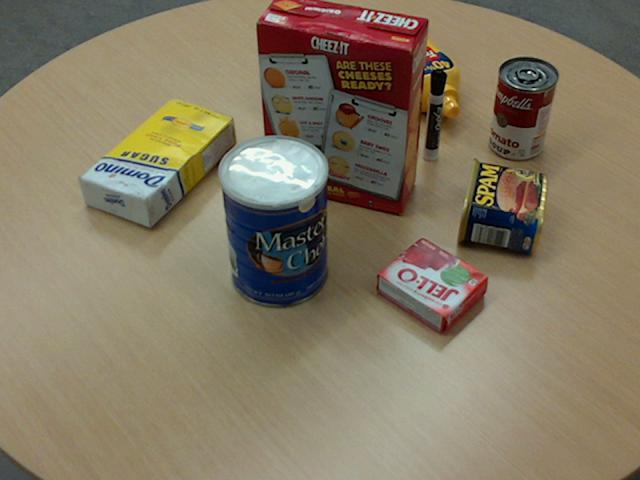cracker_box: (254, 0, 427, 213)
gelatin_box: (376, 236, 489, 332)
large_marker: (422, 69, 446, 160)
master_chef_can: (217, 134, 327, 307)
mug: (270, 34, 346, 126)
mustard_bottle: (353, 16, 459, 117)
potted_meat_can: (455, 157, 546, 252)
sugar_box: (77, 97, 235, 226)
tomato_soup_can: (489, 56, 558, 159)
tuna_fish_can: (282, 22, 344, 76)
